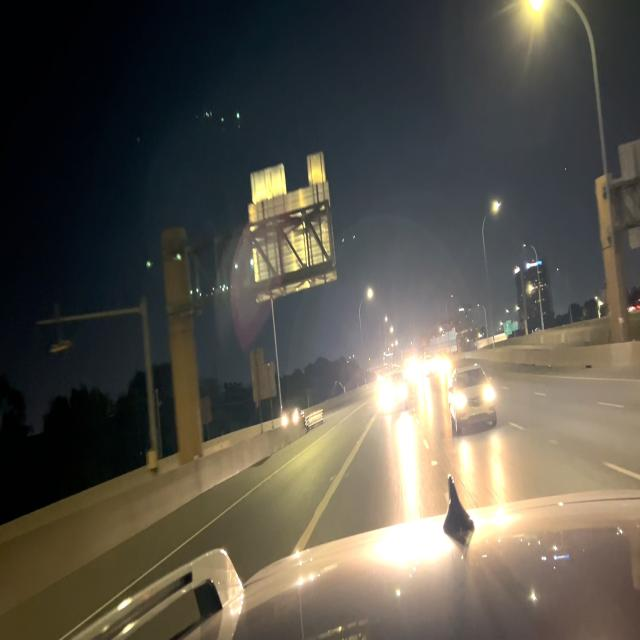back-of-sign: (246, 151, 336, 305), (248, 341, 277, 407)
